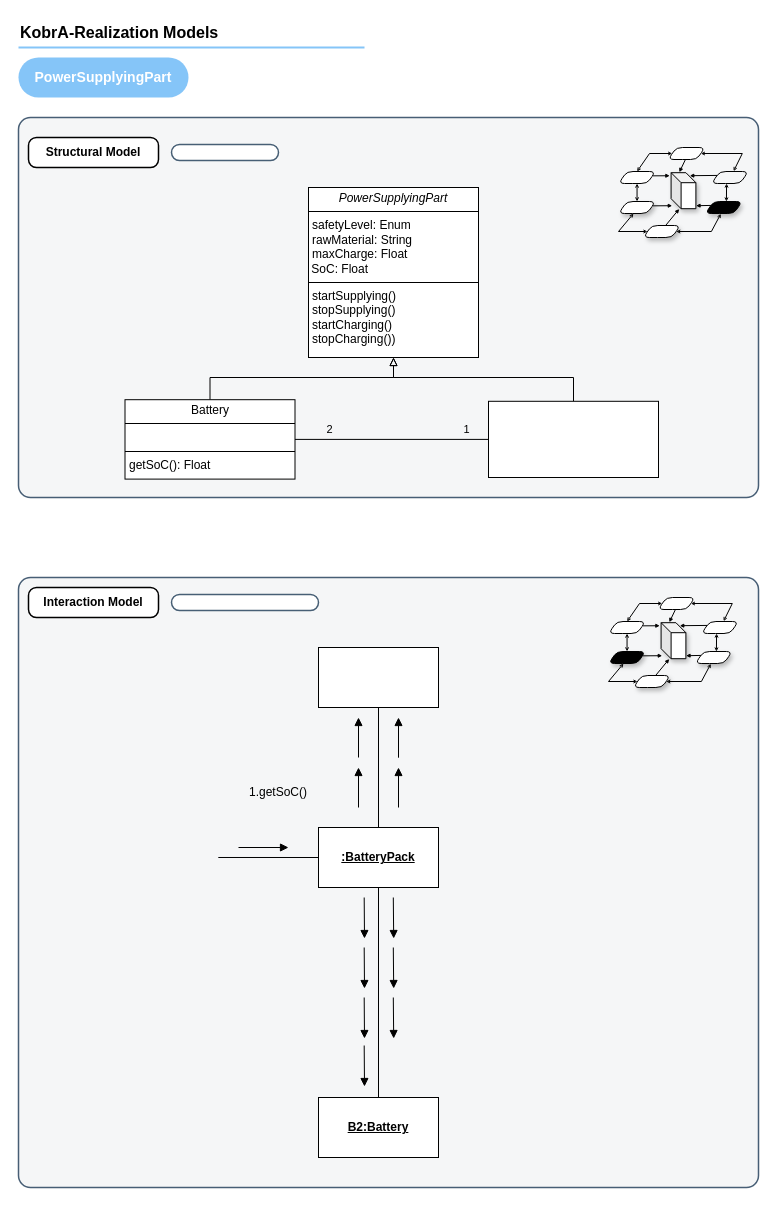
Image size: 776x1205. Some labels were removed from this diagram. Each missing label, with the centre of its shape:
"B1:Battery" belongs at [378,677].
"BatteryPack CheckSoC()" belongs at [573,439].
"UML Class Diagram" belongs at [224,152].
"UML Collaboration Diagram" belongs at [244,602].
